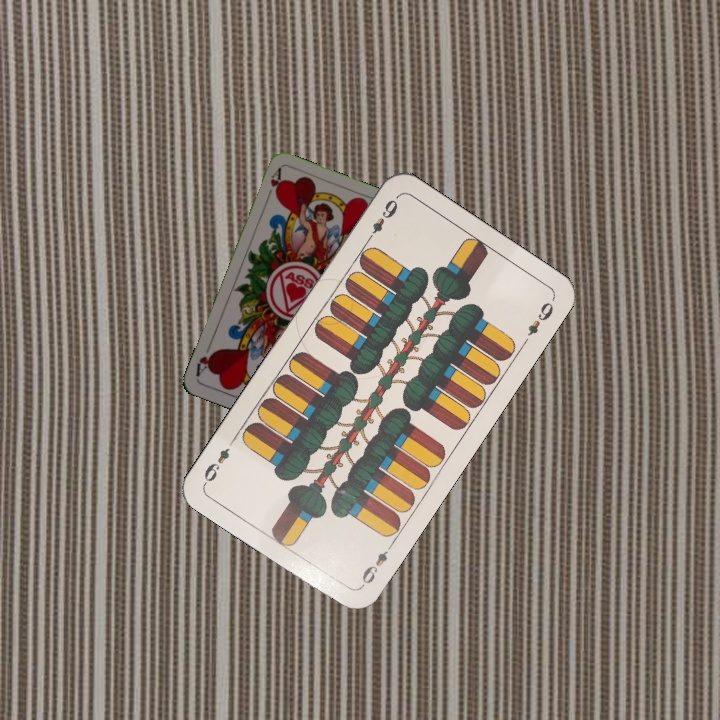E9: (362, 193, 401, 245), (357, 538, 396, 590)
HA: (262, 165, 284, 204)
